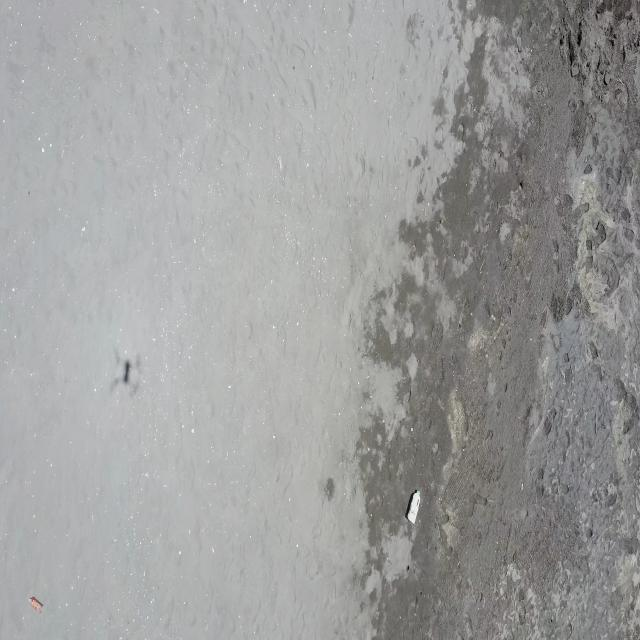plastic-bottle: (406, 488, 422, 524)
